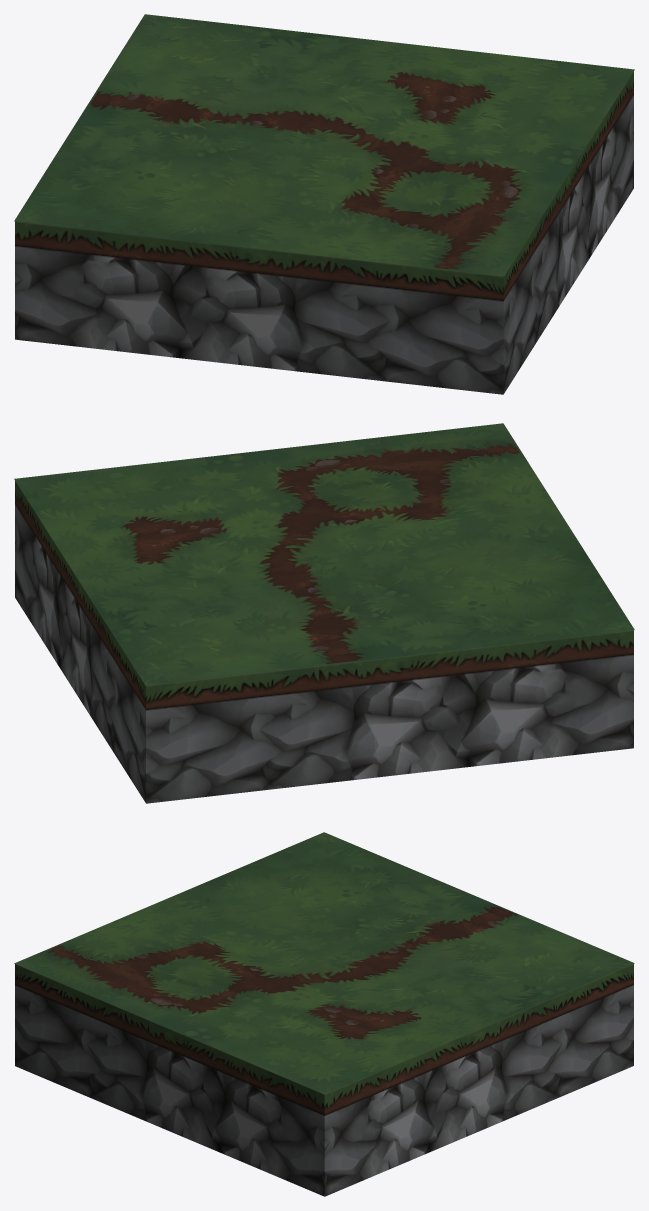
3 views of the same model, one above another, from view 1: azimuth 30°, elevation 25°; view 2: azimuth 150°, elevation 25°; view 3: azimuth 270°, elevation 25° (orthographic). The views are drawn at different scales.
Visible parts, largest first — view 1: visual.003, visual, visual.001; view 2: visual.003, visual, visual.001; view 3: visual.003, visual, visual.001.
Boxes of the visible parts, x1,y1,x2,y2 form: visual.003: [15, 71, 633, 394]; visual: [14, 14, 634, 276]; visual.001: [77, 64, 555, 272]; visual.003: [15, 481, 633, 803]; visual: [14, 423, 634, 685]; visual.001: [92, 433, 554, 665]; visual.003: [15, 964, 633, 1196]; visual: [14, 832, 634, 1094]; visual.001: [31, 893, 526, 1053].
Size of what is drawn, in the model's own units: 21.35 by 3.9 by 21.35.
3 materials, 3 textured.
